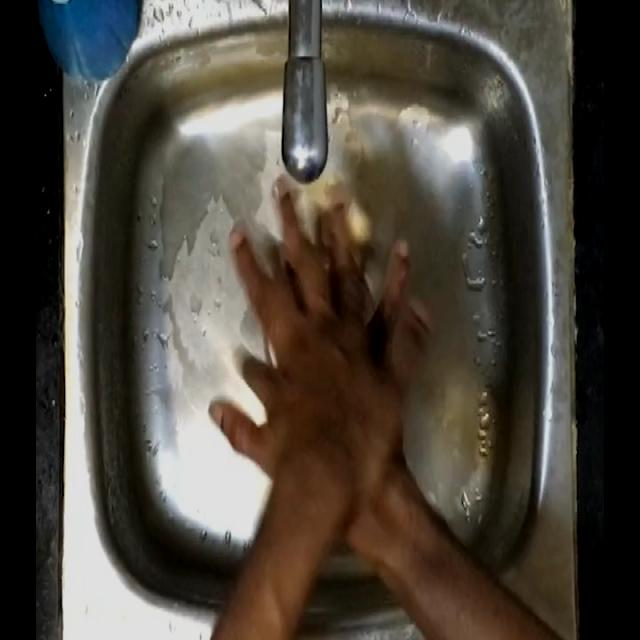step_2: (205, 173, 432, 492)
